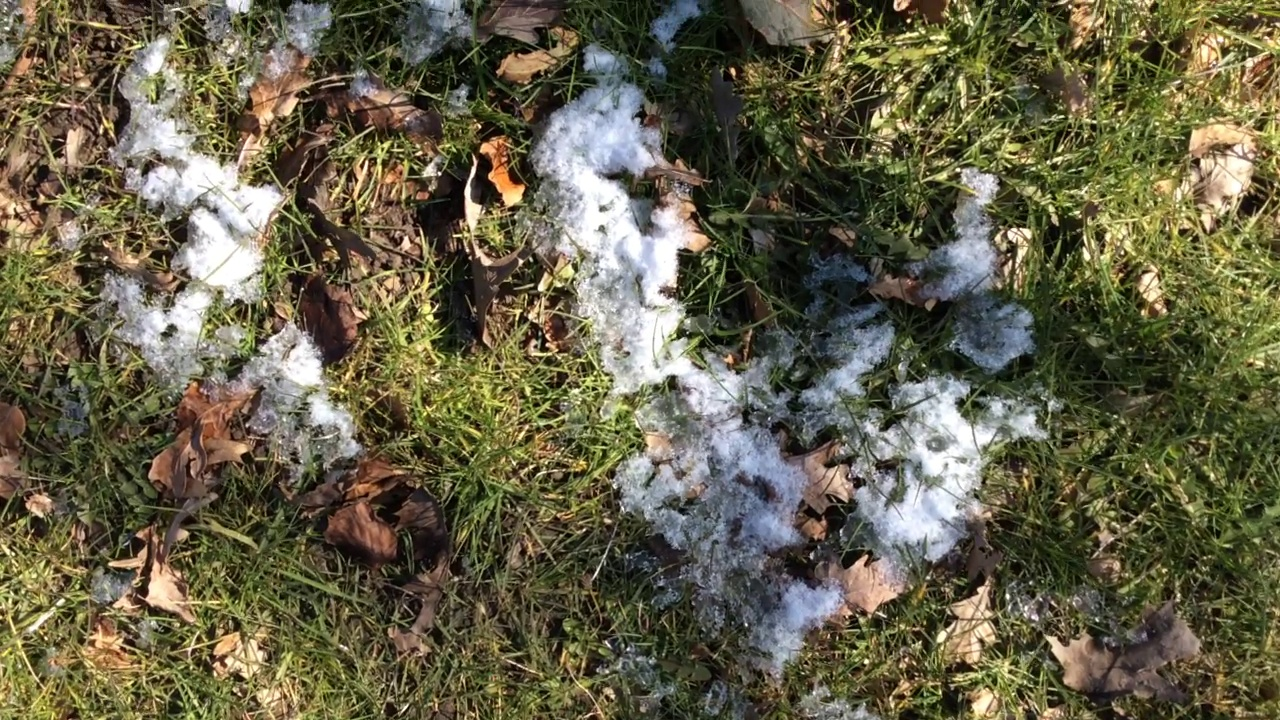rumex: (734, 1, 835, 63)
